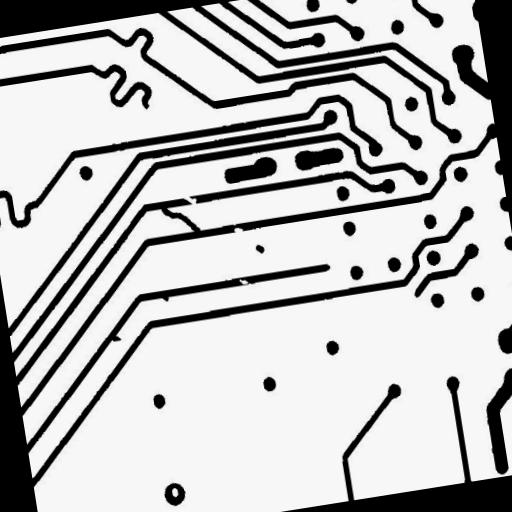copper: (246, 235, 272, 262)
mousebite: (224, 218, 252, 242), (229, 269, 256, 293)
open: (174, 184, 205, 214)
pin-hole: (162, 478, 186, 505)
short: (152, 192, 209, 246)
spur: (100, 324, 130, 350), (152, 284, 178, 310)
